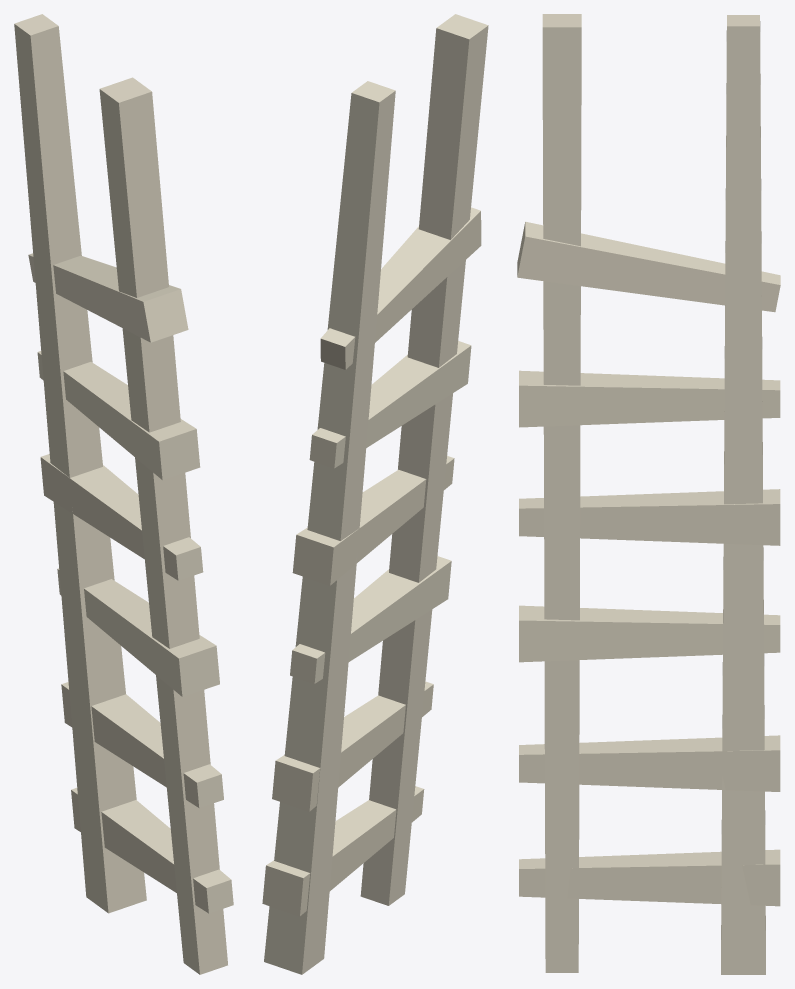
File: ladder.fbx
The picture shows the model from 3 angles, left to right: view 1: azimuth 30°, elevation 25°; view 2: azimuth 150°, elevation 25°; view 3: azimuth 270°, elevation 25°; orthographic projection. The views are drawn at different scales.
Visible parts, largest first — view 1: Cube.023; view 2: Cube.023; view 3: Cube.023.
Part boxes in pixels (x1=…): Cube.023: x1=14, y1=14, x2=233, y2=974; Cube.023: x1=262, y1=14, x2=488, y2=974; Cube.023: x1=517, y1=14, x2=780, y2=974.
Bounding box in the file's own units: 110 × 812 × 213.
